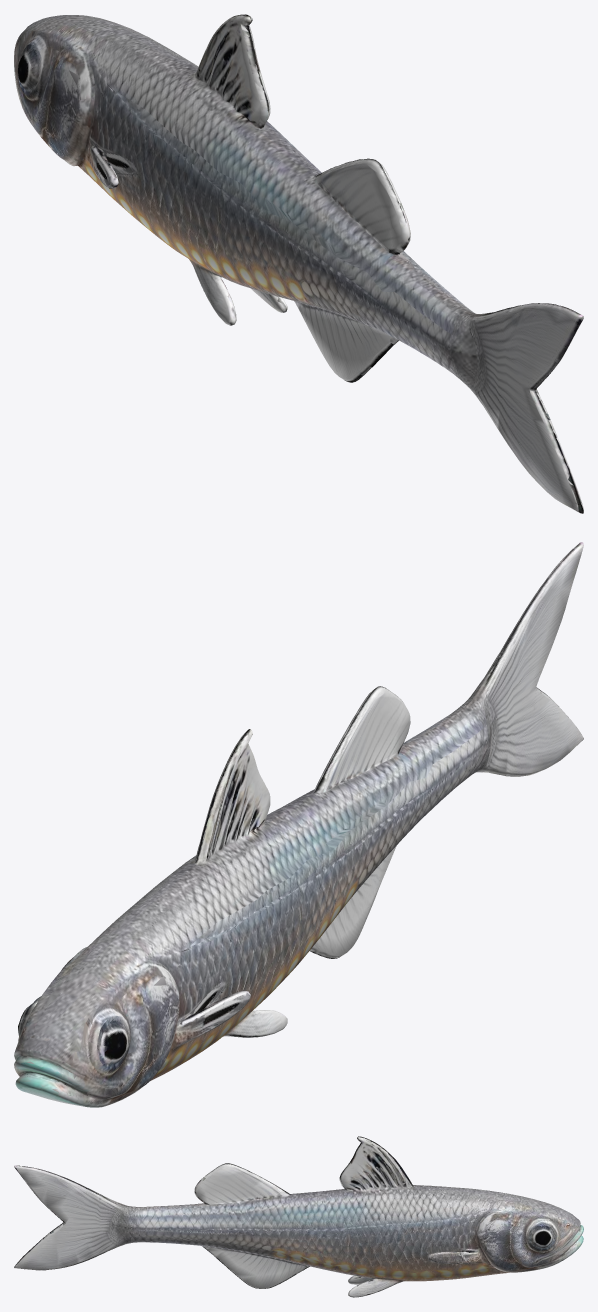
The model's file is lantern.glb.
The picture shows the model from 3 angles, top to bottom: view 1: azimuth 30°, elevation 25°; view 2: azimuth 150°, elevation 25°; view 3: azimuth 270°, elevation 25°; orthographic projection. The views are drawn at different scales.
Visible parts, largest first — view 1: lantern; view 2: lantern; view 3: lantern.
Boxes of the visible parts, x1,y1,x2,y2 form: lantern: (14, 14, 583, 513); lantern: (14, 542, 583, 1107); lantern: (14, 1136, 583, 1297).
Bounding box in the file's own units: 0.1474 × 0.2989 × 1.
Materials: 1 (1 with a texture image).
